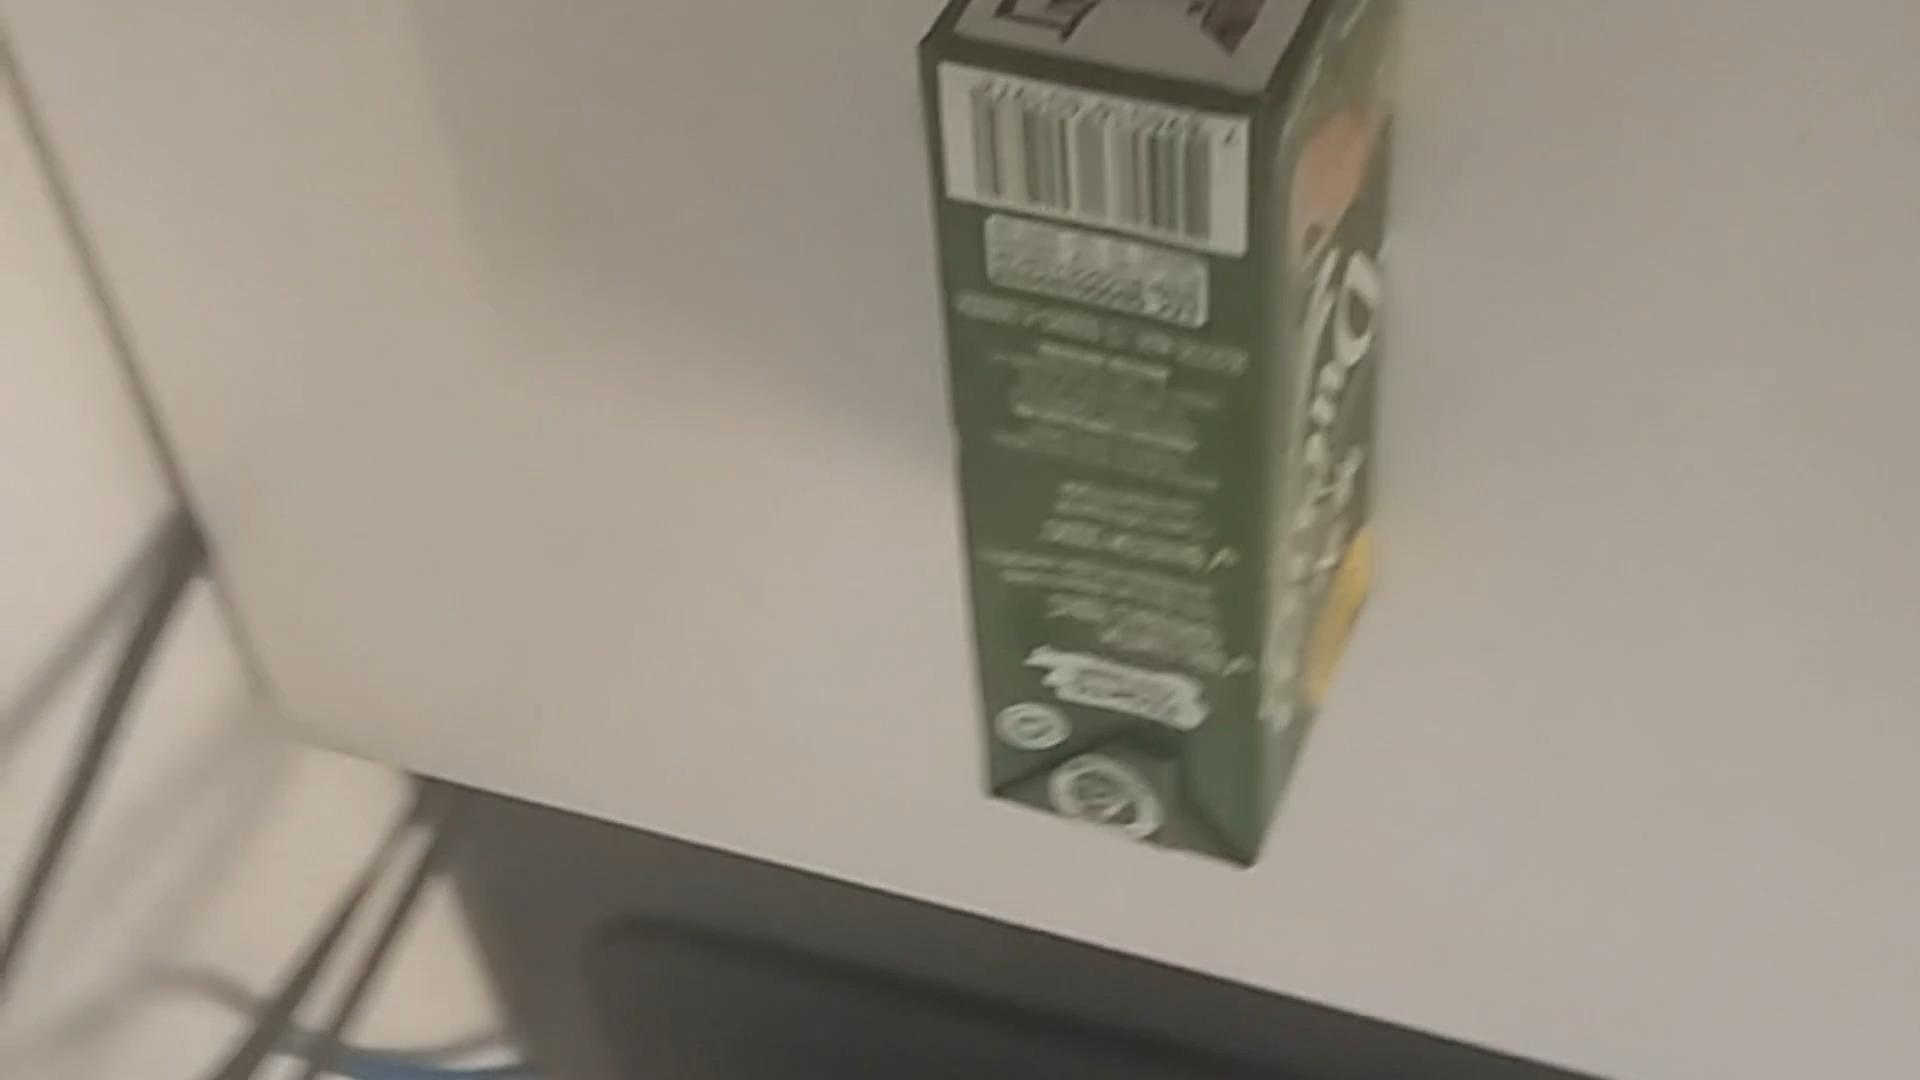coco: (920, 0, 1391, 869)
